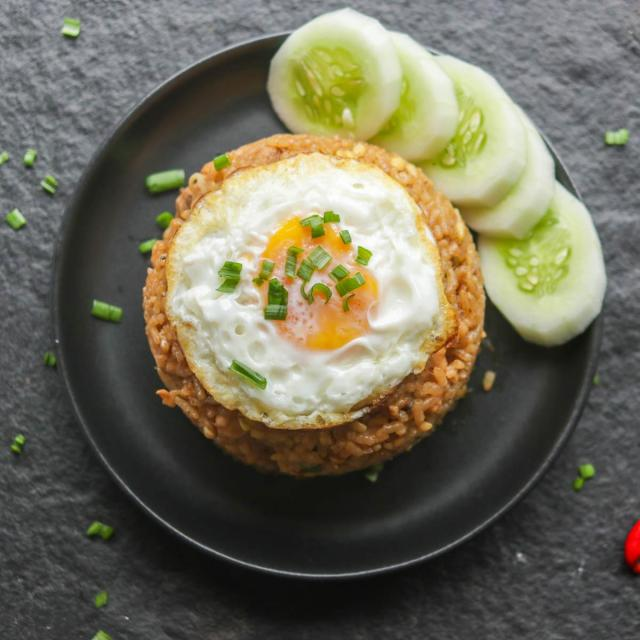Nasi Goreng: (137, 139, 501, 473)
